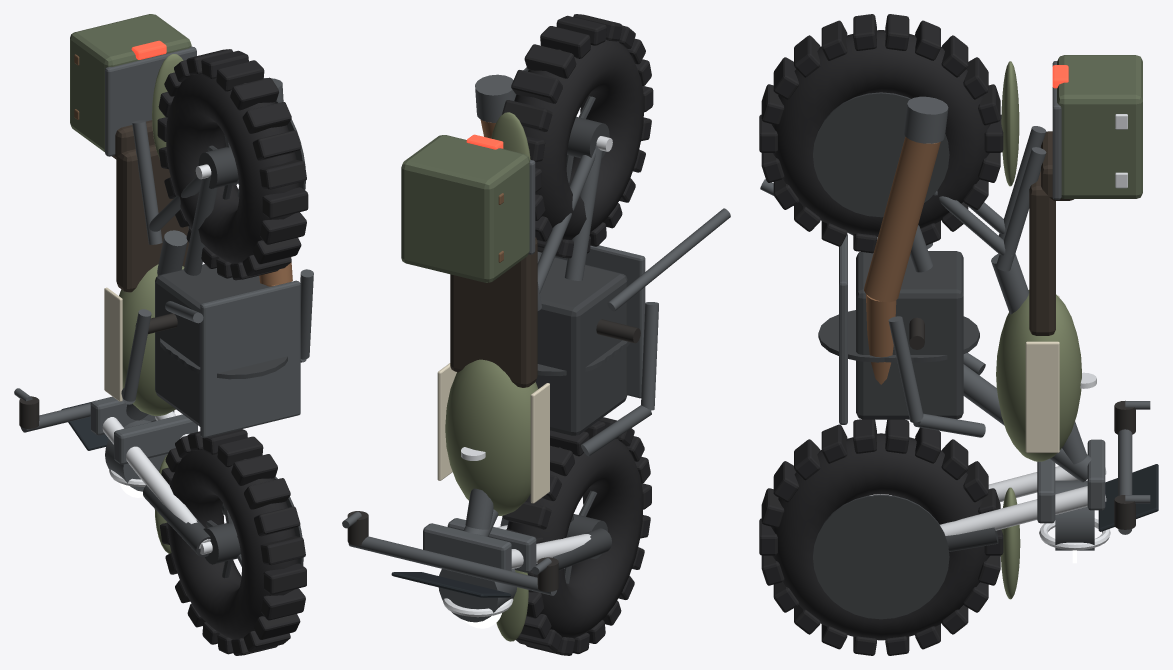
File: bike_scrambler.glb
3 views of the same model, side by side, from view 1: azimuth 30°, elevation 25°; view 2: azimuth 150°, elevation 25°; view 3: azimuth 270°, elevation 25° (orthographic). The views are drawn at different scales.
Parts seen in each view (by area): view 1: sc_skid, sc_rear_tire, sc_front_tire, sc_engine, sc_cargo, sc_seat, sc_rack, sc_tank, sc_clamp_low, sc_tank_stripe, sc_fork, sc_rail (+39 smaller); view 2: sc_cargo, sc_rear_tire, sc_front_tire, sc_engine, sc_tank, sc_seat, sc_skid, sc_bar, sc_clamp_top, sc_tank_stripe, sc_kick, sc_lamp_can (+29 smaller); view 3: sc_front_tire, sc_rear_tire, sc_front_brake, sc_engine, sc_cargo, sc_rear_brake, sc_tank, sc_muffler, sc_seat, sc_tank_stripe.001, sc_fork.001, sc_rail.001 (+45 smaller).
Part boxes in pixels (left/top/right/bottom): sc_skid: left=200, top=280, right=300, bottom=437; sc_rear_tire: left=166, top=73, right=299, bottom=263; sc_front_tire: left=167, top=449, right=298, bottom=639; sc_engine: left=155, top=264, right=270, bottom=426; sc_cargo: left=70, top=14, right=191, bottom=151; sc_seat: left=116, top=144, right=188, bottom=292; sc_rack: left=105, top=46, right=196, bottom=156; sc_tank: left=119, top=264, right=184, bottom=415; sc_clamp_low: left=114, top=414, right=197, bottom=464; sc_tank_stripe: left=104, top=287, right=122, bottom=401; sc_fork: left=102, top=417, right=210, bottom=548; sc_rail: left=132, top=120, right=162, bottom=244; sc_cargo: left=401, top=135, right=529, bottom=282; sc_rear_tire: left=514, top=40, right=644, bottom=239; sc_front_tire: left=507, top=438, right=643, bottom=638; sc_engine: left=535, top=257, right=627, bottom=435; sc_tank: left=445, top=359, right=538, bottom=515; sc_seat: left=450, top=237, right=537, bottom=387; sc_skid: left=555, top=245, right=645, bottom=398; sc_bar: left=348, top=536, right=556, bottom=595; sc_clamp_top: left=423, top=523, right=511, bottom=571; sc_tank_stripe: left=530, top=383, right=549, bottom=503; sc_kick: left=607, top=208, right=730, bottom=311; sc_lamp_can: left=438, top=569, right=516, bottom=622; sc_front_tire: left=771, top=433, right=989, bottom=640; sc_rear_tire: left=771, top=30, right=990, bottom=236; sc_front_brake: left=813, top=494, right=949, bottom=619; sc_engine: left=856, top=251, right=963, bottom=419; sc_cargo: left=1057, top=55, right=1142, bottom=198; sc_rear_brake: left=813, top=92, right=949, bottom=217; sc_tank: left=996, top=290, right=1081, bottom=461; sc_muffler: left=864, top=137, right=940, bottom=302; sc_seat: left=1029, top=171, right=1055, bottom=335; sc_tank_stripe.001: left=1025, top=341, right=1059, bottom=452; sc_fork.001: left=940, top=486, right=1106, bottom=535; sc_rail.001: left=996, top=147, right=1046, bottom=271.
Size of the model in its own units: 0.68 by 1.92 by 1.11.
